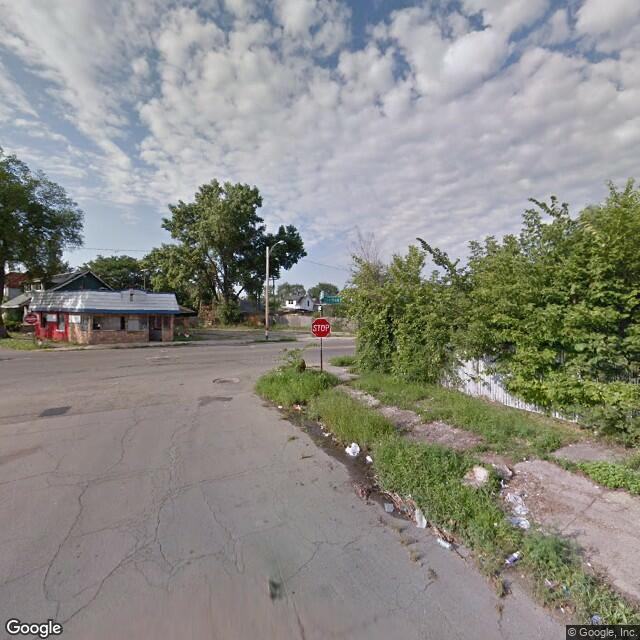litter: (290, 401, 309, 419), (435, 537, 455, 553), (590, 616, 609, 632), (414, 509, 427, 530), (344, 442, 361, 458), (563, 582, 576, 597), (506, 550, 524, 560), (363, 455, 377, 466), (382, 502, 394, 514), (319, 431, 331, 439), (490, 519, 499, 527), (276, 403, 282, 410)
